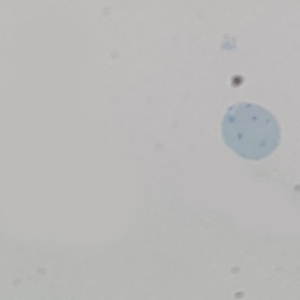punctate reticulocyte: (219, 100, 283, 163)
